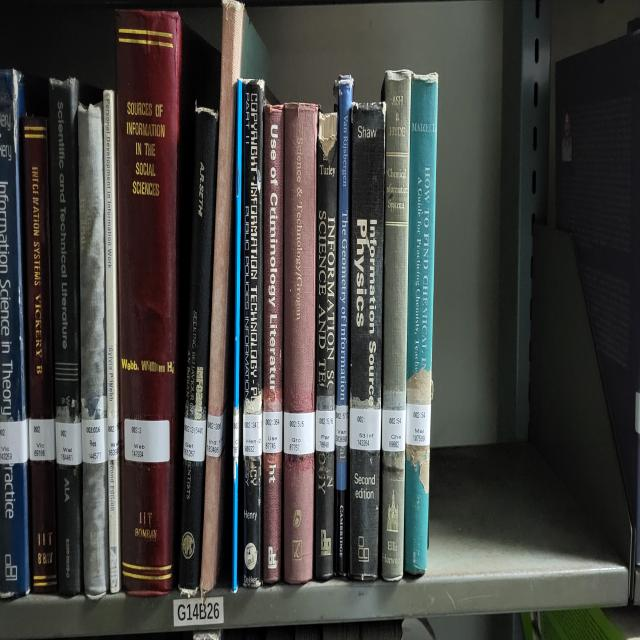Book: (116, 11, 220, 595), (200, 0, 270, 595), (179, 108, 218, 593), (404, 73, 439, 576), (349, 103, 385, 582), (22, 116, 58, 593), (50, 78, 82, 595), (284, 103, 318, 584), (0, 70, 30, 598), (381, 70, 411, 582), (78, 103, 109, 598), (242, 78, 265, 587), (315, 114, 338, 579), (262, 106, 284, 584), (334, 76, 354, 576), (102, 89, 121, 593), (231, 78, 242, 593), (245, 325, 248, 327)
Label: (124, 419, 170, 463), (284, 411, 315, 455), (0, 419, 29, 465), (350, 409, 381, 452), (81, 419, 108, 463), (55, 422, 82, 465), (381, 409, 406, 452), (406, 403, 431, 446), (29, 419, 55, 460), (184, 417, 206, 463), (206, 411, 226, 457), (262, 411, 282, 455), (242, 414, 262, 457), (315, 409, 335, 452), (335, 406, 349, 446), (108, 419, 119, 460), (232, 409, 239, 457)
